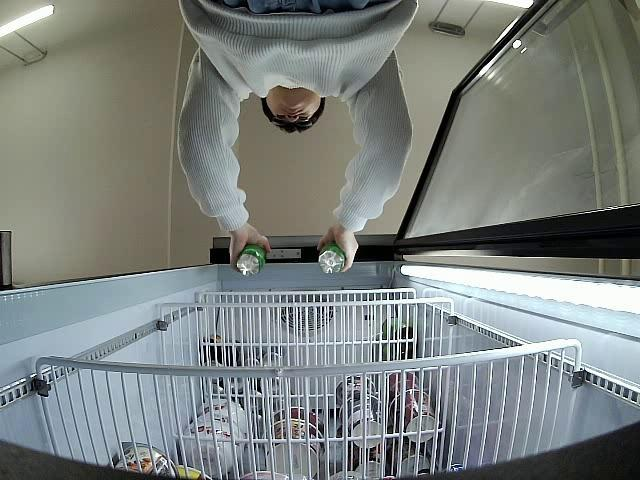18_trevi: (316, 240, 346, 275), (236, 246, 266, 278)
